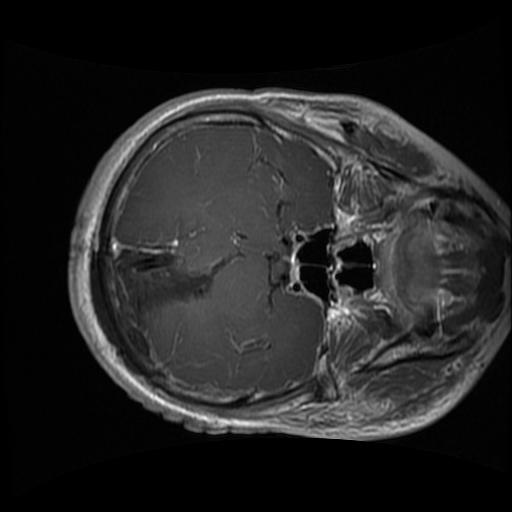glioma: (113, 245, 246, 322)
